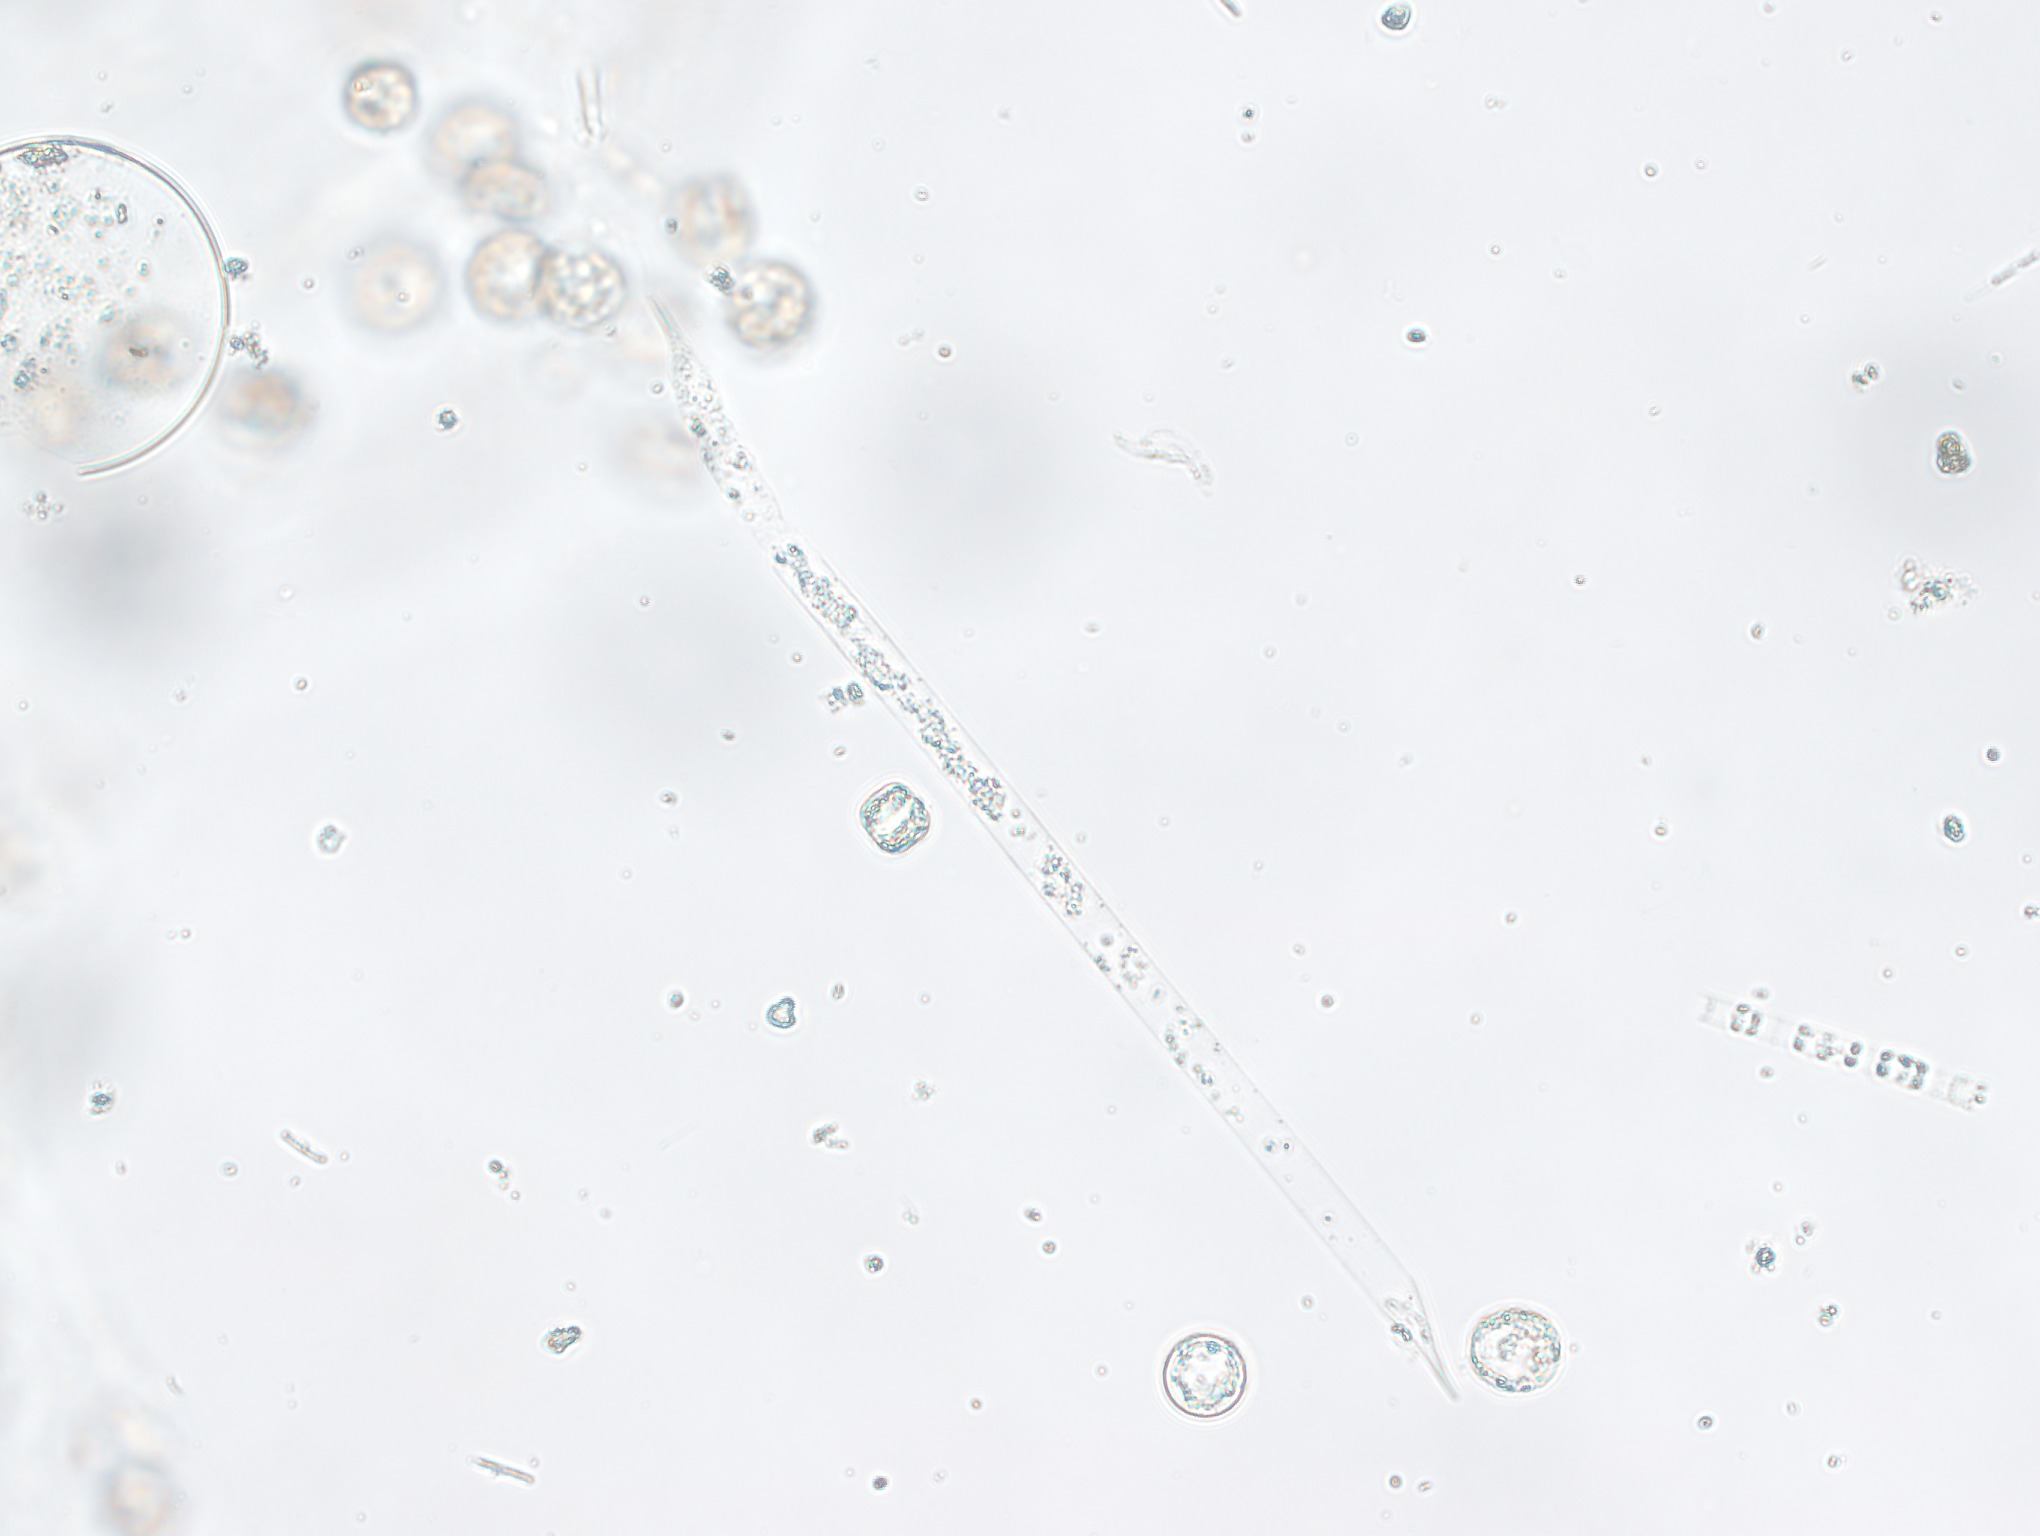rhizosolenia: (634, 303, 1463, 1431)
skeletonema: (1697, 981, 2005, 1133)
